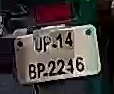1: (57, 32, 64, 50)
2: (56, 58, 65, 75), (48, 59, 56, 77)
4: (64, 32, 74, 51), (65, 56, 75, 75)
6: (74, 55, 86, 73)
B: (26, 63, 36, 81)
P: (43, 33, 52, 55), (35, 60, 45, 79)
U: (34, 35, 43, 54)
